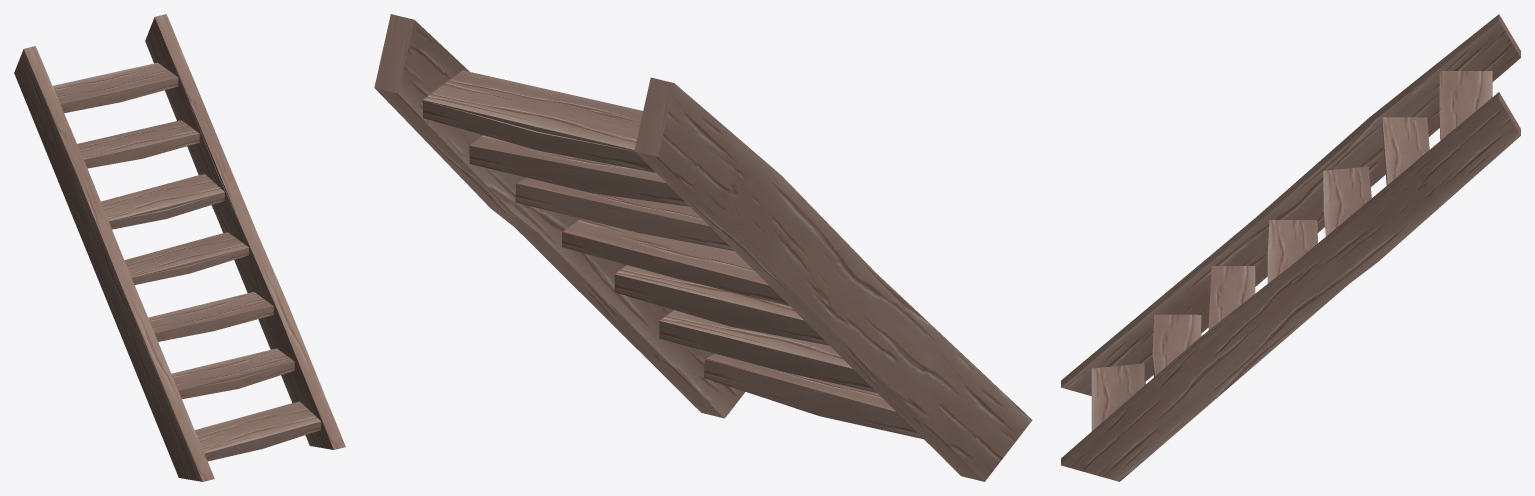
Rendered from House_Stairs.fbx.
The picture shows the model from 3 angles, left to right: view 1: azimuth 30°, elevation 25°; view 2: azimuth 150°, elevation 25°; view 3: azimuth 270°, elevation 25°; orthographic projection. The views are drawn at different scales.
Parts seen in each view (by area): view 1: Stairs_LOD0, Stairs; view 2: Stairs_LOD0, Stairs; view 3: Stairs_LOD0, Stairs.
Part boxes in pixels (box(x1,y1,x2,y2)): Stairs_LOD0: box(14, 14, 321, 481); Stairs: box(24, 18, 345, 478); Stairs_LOD0: box(374, 15, 1032, 481); Stairs: box(374, 14, 1031, 438); Stairs_LOD0: box(1061, 15, 1520, 480); Stairs: box(1061, 14, 1520, 481).
Bounding box in the file's own units: 144 × 301 × 327.
